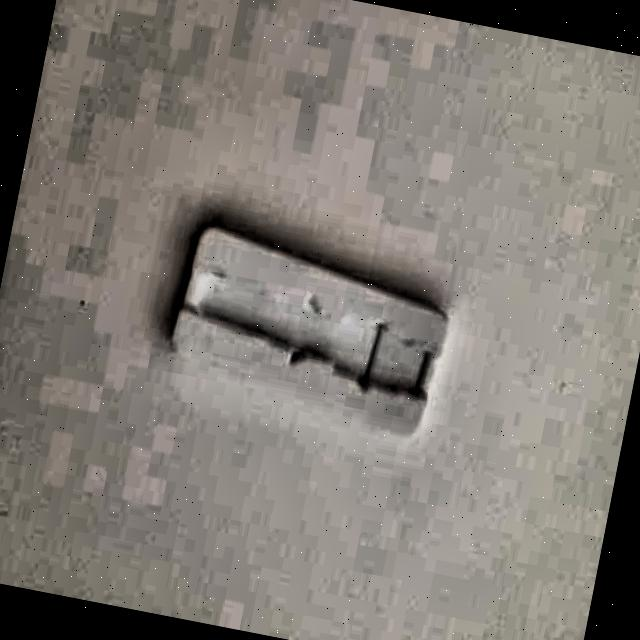plastic: (161, 217, 464, 426)
